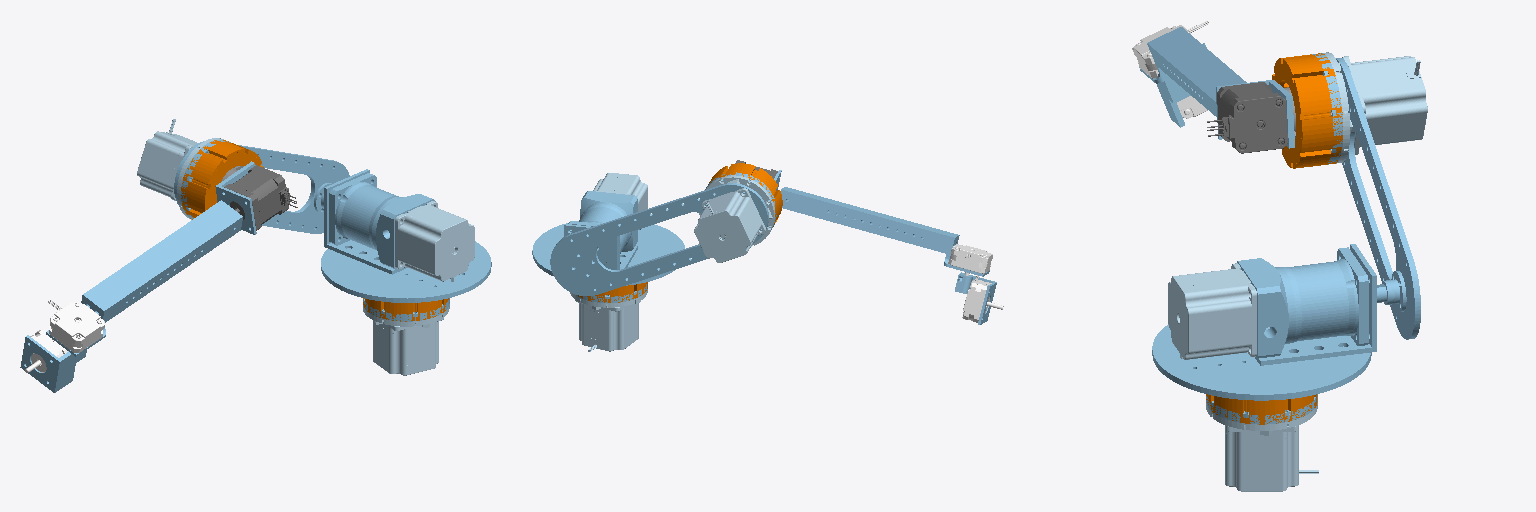
--- What the picture shows (computed from the rendered views, not written in the file) ---
The picture shows the robot from 3 angles, left to right: view 1: azimuth 30°, elevation 25°; view 2: azimuth 150°, elevation 25°; view 3: azimuth 270°, elevation 25°; orthographic projection.
Robot: Midas — 6 links, 5 joints (5 revolute); root link base; default pose: every joint at zero.
Links seen in each view (by area): view 1: platform, j2, j4, base, j3, j5; view 2: j2, platform, j4, base, j5; view 3: platform, j2, base, j3, j4, j5.
Boxes of the visible links, x1=… form: platform: x1=314, y1=169, x2=491, y2=302; j2: x1=137, y1=119, x2=349, y2=233; j4: x1=46, y1=200, x2=242, y2=356; base: x1=363, y1=298, x2=449, y2=375; j3: x1=215, y1=161, x2=297, y2=234; j5: x1=20, y1=330, x2=86, y2=392; j2: x1=550, y1=163, x2=782, y2=295; platform: x1=532, y1=173, x2=684, y2=285; j4: x1=781, y1=187, x2=992, y2=276; base: x1=570, y1=282, x2=647, y2=351; j5: x1=955, y1=272, x2=1003, y2=324; platform: x1=1152, y1=244, x2=1406, y2=400; j2: x1=1272, y1=52, x2=1427, y2=339; base: x1=1206, y1=394, x2=1318, y2=491; j3: x1=1207, y1=80, x2=1294, y2=153; j4: x1=1132, y1=21, x2=1246, y2=116; j5: x1=1157, y1=43, x2=1207, y2=127.
Size in the robot's own frame: 0.5568 by 0.2293 by 0.2668 metres.
Meshes: 18 distinct files referenced, 31 mesh visuals loaded (18 binary STL).

robot.urdf — Midas:
<?xml version="1.0"?>
<robot name="Midas">
<link name="base">
<visual>
<origin xyz="-1.1449174941446926823e-16 0 0" rpy="-1.570796326794896558 -1.1102230246247470723e-16 -1.570796326794896558" />
<geometry>
<mesh filename="package://Midas_robot_description/Midas-Robot/23hs22-2804s.stl"/>
</geometry>
<material name="23hs22-2804s_material">
<color rgba="0.76862745098039220171 0.88627450980392152857 0.95294117647058818044 1.0"/>
</material>
</visual>
<collision>
<origin xyz="-1.1449174941446926823e-16 0 0" rpy="-1.570796326794896558 -1.1102230246247470723e-16 -1.570796326794896558" />
<geometry>
<mesh filename="package://Midas_robot_description/Midas-Robot/23hs22-2804s.stl"/>
</geometry>
</collision>
<visual>
<origin xyz="2.2742891967527403354e-15 1.2198545598937239283e-15 0.072250000000016356694" rpy="1.570796326794896558 3.0507815995745220066e-16 2.0594885173533126199" />
<geometry>
<mesh filename="package://Midas_robot_description/Midas-Robot/ring.stl"/>
</geometry>
<material name="ring_material">
<color rgba="0.61568627450980395466 0.81176470588235294379 0.92941176470588238168 1.0"/>
</material>
</visual>
<collision>
<origin xyz="2.2742891967527403354e-15 1.2198545598937239283e-15 0.072250000000016356694" rpy="1.570796326794896558 3.0507815995745220066e-16 2.0594885173533126199" />
<geometry>
<mesh filename="package://Midas_robot_description/Midas-Robot/ring.stl"/>
</geometry>
</collision>
<visual>
<origin xyz="-0.008073568289266357112 0.043596852108962372285 0.072250000000016398327" rpy="1.5707963267948978903 1.6641573416551487972e-15 -1.7808240093215093047" />
<geometry>
<mesh filename="package://Midas_robot_description/Midas-Robot/planet.stl"/>
</geometry>
<material name="planet_material">
<color rgba="0.61568627450980395466 0.81176470588235294379 0.92941176470588238168 1.0"/>
</material>
</visual>
<collision>
<origin xyz="-0.008073568289266357112 0.043596852108962372285 0.072250000000016398327" rpy="1.5707963267948978903 1.6641573416551487972e-15 -1.7808240093215093047" />
<geometry>
<mesh filename="package://Midas_robot_description/Midas-Robot/planet.stl"/>
</geometry>
</collision>
<visual>
<origin xyz="1.5647205753310799992e-15 5.5511151231257827021e-16 0.072250000000016356694" rpy="1.57079632679489678 6.7998872472763281959e-16 2.0594885173533090672" />
<geometry>
<mesh filename="package://Midas_robot_description/Midas-Robot/top_cover.stl"/>
</geometry>
<material name="top_cover_material">
<color rgba="0.97254901960784312376 0.52941176470588235947 0.0039215686274509803377 1.0"/>
</material>
</visual>
<collision>
<origin xyz="1.5647205753310799992e-15 5.5511151231257827021e-16 0.072250000000016356694" rpy="1.57079632679489678 6.7998872472763281959e-16 2.0594885173533090672" />
<geometry>
<mesh filename="package://Midas_robot_description/Midas-Robot/top_cover.stl"/>
</geometry>
</collision>
<visual>
<origin xyz="-0.02871550992756377596 -0.0053177378445094375392 0.064250000000016349588" rpy="-1.5707963267948945596 2.5084471746947033178e-16 -0.73362645812491122932" />
<geometry>
<mesh filename="package://Midas_robot_description/Midas-Robot/planet.stl"/>
</geometry>
<material name="planet_material">
<color rgba="0.61568627450980395466 0.81176470588235294379 0.92941176470588238168 1.0"/>
</material>
</visual>
<collision>
<origin xyz="-0.02871550992756377596 -0.0053177378445094375392 0.064250000000016349588" rpy="-1.5707963267948945596 2.5084471746947033178e-16 -0.73362645812491122932" />
<geometry>
<mesh filename="package://Midas_robot_description/Midas-Robot/planet.stl"/>
</geometry>
</collision>
<visual>
<origin xyz="-8.3266726846886740532e-17 0 0.072250000000016439961" rpy="1.5707963267948958919 -1.5859141323471743844e-15 -1.8675022996339341042" />
<geometry>
<mesh filename="package://Midas_robot_description/Midas-Robot/bottom_cover.stl"/>
</geometry>
<material name="bottom_cover_material">
<color rgba="0.76862745098039220171 0.88627450980392152857 0.95294117647058818044 1.0"/>
</material>
</visual>
<collision>
<origin xyz="-8.3266726846886740532e-17 0 0.072250000000016439961" rpy="1.5707963267948958919 -1.5859141323471743844e-15 -1.8675022996339341042" />
<geometry>
<mesh filename="package://Midas_robot_description/Midas-Robot/bottom_cover.stl"/>
</geometry>
</collision>
<visual>
<origin xyz="0.018963051027797363235 -0.022209492157640255833 0.072250000000016370572" rpy="1.570796326794896558 -5.4300922672773174923e-17 1.3607686442682840333" />
<geometry>
<mesh filename="package://Midas_robot_description/Midas-Robot/planet.stl"/>
</geometry>
<material name="planet_material">
<color rgba="0.61568627450980395466 0.81176470588235294379 0.92941176470588238168 1.0"/>
</material>
</visual>
<collision>
<origin xyz="0.018963051027797363235 -0.022209492157640255833 0.072250000000016370572" rpy="1.570796326794896558 -5.4300922672773174923e-17 1.3607686442682840333" />
<geometry>
<mesh filename="package://Midas_robot_description/Midas-Robot/planet.stl"/>
</geometry>
</collision>
<visual>
<origin xyz="2.2840166597300263533e-15 1.2152114320151168013e-15 0.072250000000016356694" rpy="1.570796326794896558 5.1595185780174672198e-17 0.052653963703470973989" />
<geometry>
<mesh filename="package://Midas_robot_description/Midas-Robot/carrier.stl"/>
</geometry>
<material name="carrier_material">
<color rgba="0.64705882352941179736 0.64705882352941179736 0.64705882352941179736 1.0"/>
</material>
</visual>
<collision>
<origin xyz="2.2840166597300263533e-15 1.2152114320151168013e-15 0.072250000000016356694" rpy="1.570796326794896558 5.1595185780174672198e-17 0.052653963703470973989" />
<geometry>
<mesh filename="package://Midas_robot_description/Midas-Robot/carrier.stl"/>
</geometry>
</collision>
<visual>
<origin xyz="2.2833465743107972165e-15 1.213440460589933622e-15 0.064250000000016377344" rpy="-1.5707963267948934494 1.0704695233233910285e-15 -1.2554607168613407531" />
<geometry>
<mesh filename="package://Midas_robot_description/Midas-Robot/sun.stl"/>
</geometry>
<material name="sun_material">
<color rgba="0.61568627450980395466 0.81176470588235294379 0.92941176470588238168 1.0"/>
</material>
</visual>
<collision>
<origin xyz="2.2833465743107972165e-15 1.213440460589933622e-15 0.064250000000016377344" rpy="-1.5707963267948934494 1.0704695233233910285e-15 -1.2554607168613407531" />
<geometry>
<mesh filename="package://Midas_robot_description/Midas-Robot/sun.stl"/>
</geometry>
</collision>
<inertial>
<origin xyz="0 0 0" rpy="0 0 0"/>
<mass value="0" />
<inertia ixx="0" ixy="0"  ixz="0" iyy="0" iyz="0" izz="0" />
</inertial>
</link>

<link name="platform">
<visual>
<origin xyz="0 -1.2246467991472765398e-18 -0.009999999999999995004" rpy="1.232595164407830946e-32 -2.4651903288156624393e-32 -5.2207661416554567161e-17" />
<geometry>
<mesh filename="package://Midas_robot_description/Midas-Robot/platform.stl"/>
</geometry>
<material name="platform_material">
<color rgba="0.61568627450980395466 0.81176470588235294379 0.92941176470588238168 1.0"/>
</material>
</visual>
<collision>
<origin xyz="0 -1.2246467991472765398e-18 -0.009999999999999995004" rpy="1.232595164407830946e-32 -2.4651903288156624393e-32 -5.2207661416554567161e-17" />
<geometry>
<mesh filename="package://Midas_robot_description/Midas-Robot/platform.stl"/>
</geometry>
</collision>
<visual>
<origin xyz="1.6741520700367351027e-17 0.067499999999999477085 -0.04457000000000010953" rpy="5.5524931820137805455e-17 1.5707963267948947816 0" />
<geometry>
<mesh filename="package://Midas_robot_description/Midas-Robot/23hs22-2804s.stl"/>
</geometry>
<material name="23hs22-2804s_material">
<color rgba="0.76862745098039220171 0.88627450980392152857 0.95294117647058818044 1.0"/>
</material>
</visual>
<collision>
<origin xyz="1.6741520700367351027e-17 0.067499999999999477085 -0.04457000000000010953" rpy="5.5524931820137805455e-17 1.5707963267948947816 0" />
<geometry>
<mesh filename="package://Midas_robot_description/Midas-Robot/23hs22-2804s.stl"/>
</geometry>
</collision>
<visual>
<origin xyz="-1.0444733542316001519e-16 -0.11199999999999998845 -0.044569999999999915241" rpy="3.1415926535897917837 -0.63879920846746851559 -4.0153510517335879718e-15" />
<geometry>
<mesh filename="package://Midas_robot_description/Midas-Robot/flange2.stl"/>
</geometry>
<material name="flange2_material">
<color rgba="0.61568627450980395466 0.81176470588235294379 0.92941176470588238168 1.0"/>
</material>
</visual>
<collision>
<origin xyz="-1.0444733542316001519e-16 -0.11199999999999998845 -0.044569999999999915241" rpy="3.1415926535897917837 -0.63879920846746851559 -4.0153510517335879718e-15" />
<geometry>
<mesh filename="package://Midas_robot_description/Midas-Robot/flange2.stl"/>
</geometry>
</collision>
<visual>
<origin xyz="-1.0142822431806847807e-16 -0.080000000000000029421 -0.044569999999999915241" rpy="-3.1415926535897917837 1.3189715413038964381e-16 3.141592653589793116" />
<geometry>
<mesh filename="package://Midas_robot_description/Midas-Robot/23-motor_mount.stl"/>
</geometry>
<material name="23-motor_mount_material">
<color rgba="0.61568627450980395466 0.81176470588235294379 0.92941176470588238168 1.0"/>
</material>
</visual>
<collision>
<origin xyz="-1.0142822431806847807e-16 -0.080000000000000029421 -0.044569999999999915241" rpy="-3.1415926535897917837 1.3189715413038964381e-16 3.141592653589793116" />
<geometry>
<mesh filename="package://Midas_robot_description/Midas-Robot/23-motor_mount.stl"/>
</geometry>
</collision>
<visual>
<origin xyz="-0.014796005033029264314 -0.027250000000000204614 -0.030605231204780952714" rpy="-3.1415926535897917837 1.3189715413038974241e-16 3.141592653589793116" />
<geometry>
<mesh filename="package://Midas_robot_description/Midas-Robot/composite_part_1.stl"/>
</geometry>
<material name="composite_part_1_material">
<color rgba="0.61568627450980395466 0.81176470588235294379 0.92941176470588238168 1.0"/>
</material>
</visual>
<collision>
<origin xyz="-0.014796005033029264314 -0.027250000000000204614 -0.030605231204780952714" rpy="-3.1415926535897917837 1.3189715413038974241e-16 3.141592653589793116" />
<geometry>
<mesh filename="package://Midas_robot_description/Midas-Robot/composite_part_1.stl"/>
</geometry>
</collision>
<inertial>
<origin xyz="0 0 0" rpy="0 0 0"/>
<mass value="0" />
<inertia ixx="0" ixy="0"  ixz="0" iyy="0" iyz="0" izz="0" />
</inertial>
</link>

<link name="j2">
<visual>
<origin xyz="-0.1905999999999999639 -2.7755575615628913511e-17 -0.062000000000000971001" rpy="-1.5707963267948958919 -5.97157993313111585e-15 -1.57079632679489678" />
<geometry>
<mesh filename="package://Midas_robot_description/Midas-Robot/23hs22-2804s.stl"/>
</geometry>
<material name="23hs22-2804s_material">
<color rgba="0.76862745098039220171 0.88627450980392152857 0.95294117647058818044 1.0"/>
</material>
</visual>
<collision>
<origin xyz="-0.1905999999999999639 -2.7755575615628913511e-17 -0.062000000000000971001" rpy="-1.5707963267948958919 -5.97157993313111585e-15 -1.57079632679489678" />
<geometry>
<mesh filename="package://Midas_robot_description/Midas-Robot/23hs22-2804s.stl"/>
</geometry>
</collision>
<visual>
<origin xyz="1.3877787807814456755e-17 -2.7755575615628913511e-17 0" rpy="1.570796326794896558 1.6855739234721192622e-17 -1.9780814093964471495e-17" />
<geometry>
<mesh filename="package://Midas_robot_description/Midas-Robot/upperarm.stl"/>
</geometry>
<material name="upperarm_material">
<color rgba="0.61568627450980395466 0.81176470588235294379 0.92941176470588238168 1.0"/>
</material>
</visual>
<collision>
<origin xyz="1.3877787807814456755e-17 -2.7755575615628913511e-17 0" rpy="1.570796326794896558 1.6855739234721192622e-17 -1.9780814093964471495e-17" />
<geometry>
<mesh filename="package://Midas_robot_description/Midas-Robot/upperarm.stl"/>
</geometry>
</collision>
<visual>
<origin xyz="-0.1905999999999999639 0 0.017250000000016613155" rpy="1.5707963267948970021 -2.2055164235487927261e-17 -2.3561944901923426166" />
<geometry>
<mesh filename="package://Midas_robot_description/Midas-Robot/ring.stl"/>
</geometry>
<material name="ring_material">
<color rgba="0.61568627450980395466 0.81176470588235294379 0.92941176470588238168 1.0"/>
</material>
</visual>
<collision>
<origin xyz="-0.1905999999999999639 0 0.017250000000016613155" rpy="1.5707963267948970021 -2.2055164235487927261e-17 -2.3561944901923426166" />
<geometry>
<mesh filename="package://Midas_robot_description/Midas-Robot/ring.stl"/>
</geometry>
</collision>
<visual>
<origin xyz="-0.16501369729581036316 -0.0025985868884551011071 0.017250000000016876833" rpy="1.5707963267948930053 5.4431113338167314858e-15 -2.2374540801420059744" />
<geometry>
<mesh filename="package://Midas_robot_description/Midas-Robot/planet.stl"/>
</geometry>
<material name="planet_material">
<color rgba="0.61568627450980395466 0.81176470588235294379 0.92941176470588238168 1.0"/>
</material>
</visual>
<collision>
<origin xyz="-0.16501369729581036316 -0.0025985868884551011071 0.017250000000016876833" rpy="1.5707963267948930053 5.4431113338167314858e-15 -2.2374540801420059744" />
<geometry>
<mesh filename="package://Midas_robot_description/Midas-Robot/planet.stl"/>
</geometry>
</collision>
<visual>
<origin xyz="-0.19059999999999990838 8.3266726846886740532e-17 0.017250000000016599278" rpy="1.57079632679489678 -2.8871676823717530665e-16 -2.3561944901923412843" />
<geometry>
<mesh filename="package://Midas_robot_description/Midas-Robot/top_cover.stl"/>
</geometry>
<material name="top_cover_material">
<color rgba="0.97254901960784312376 0.52941176470588235947 0.0039215686274509803377 1.0"/>
</material>
</visual>
<collision>
<origin xyz="-0.19059999999999990838 8.3266726846886740532e-17 0.017250000000016599278" rpy="1.57079632679489678 -2.8871676823717530665e-16 -2.3561944901923412843" />
<geometry>
<mesh filename="package://Midas_robot_description/Midas-Robot/top_cover.stl"/>
</geometry>
</collision>
<visual>
<origin xyz="-0.18630200193640966688 0.042319108114335757254 0.009250000000016661561" rpy="-1.570796326794896558 2.7728445275168562639e-15 -1.1902565289454078989" />
<geometry>
<mesh filename="package://Midas_robot_description/Midas-Robot/planet.stl"/>
</geometry>
<material name="planet_material">
<color rgba="0.61568627450980395466 0.81176470588235294379 0.92941176470588238168 1.0"/>
</material>
</visual>
<collision>
<origin xyz="-0.18630200193640966688 0.042319108114335757254 0.009250000000016661561" rpy="-1.570796326794896558 2.7728445275168562639e-15 -1.1902565289454078989" />
<geometry>
<mesh filename="package://Midas_robot_description/Midas-Robot/planet.stl"/>
</geometry>
</collision>
<visual>
<origin xyz="-0.1905999999999999639 -5.5511151231257827021e-17 0.017250000000016599278" rpy="1.570796326794896558 -3.6476581565618535824e-17 1.089472336390025872e-15" />
<geometry>
<mesh filename="package://Midas_robot_description/Midas-Robot/bottom_cover.stl"/>
</geometry>
<material name="bottom_cover_material">
<color rgba="0.76862745098039220171 0.88627450980392152857 0.95294117647058818044 1.0"/>
</material>
</visual>
<collision>
<origin xyz="-0.1905999999999999639 -5.5511151231257827021e-17 0.017250000000016599278" rpy="1.570796326794896558 -3.6476581565618535824e-17 1.089472336390025872e-15" />
<geometry>
<mesh filename="package://Midas_robot_description/Midas-Robot/bottom_cover.stl"/>
</geometry>
</collision>
<visual>
<origin xyz="-0.22939842172431021416 -0.017437378548682436197 0.017250000000016793567" rpy="1.5707963267948903408 2.3086442656521055573e-15 0.90413857344778725267" />
<geometry>
<mesh filename="package://Midas_robot_description/Midas-Robot/planet.stl"/>
</geometry>
<material name="planet_material">
<color rgba="0.61568627450980395466 0.81176470588235294379 0.92941176470588238168 1.0"/>
</material>
</visual>
<collision>
<origin xyz="-0.22939842172431021416 -0.017437378548682436197 0.017250000000016793567" rpy="1.5707963267948903408 2.3086442656521055573e-15 0.90413857344778725267" />
<geometry>
<mesh filename="package://Midas_robot_description/Midas-Robot/planet.stl"/>
</geometry>
</collision>
<visual>
<origin xyz="-0.1905999999999999639 5.5511151231257827021e-17 0.0172500000000167103" rpy="1.5707963267948994446 -5.7439847103031762517e-16 3.0822224485646239067" />
<geometry>
<mesh filename="package://Midas_robot_description/Midas-Robot/carrier.stl"/>
</geometry>
<material name="carrier_material">
<color rgba="0.64705882352941179736 0.64705882352941179736 0.64705882352941179736 1.0"/>
</material>
</visual>
<collision>
<origin xyz="-0.1905999999999999639 5.5511151231257827021e-17 0.0172500000000167103" rpy="1.5707963267948994446 -5.7439847103031762517e-16 3.0822224485646239067" />
<geometry>
<mesh filename="package://Midas_robot_description/Midas-Robot/carrier.stl"/>
</geometry>
</collision>
<visual>
<origin xyz="-0.1905999999999999639 8.3266726846886740532e-17 0.0092500000000166060499" rpy="-1.5707963267949098807 8.1528043177160854498e-15 -1.0228789834981364404" />
<geometry>
<mesh filename="package://Midas_robot_description/Midas-Robot/sun.stl"/>
</geometry>
<material name="sun_material">
<color rgba="0.61568627450980395466 0.81176470588235294379 0.92941176470588238168 1.0"/>
</material>
</visual>
<collision>
<origin xyz="-0.1905999999999999639 8.3266726846886740532e-17 0.0092500000000166060499" rpy="-1.5707963267949098807 8.1528043177160854498e-15 -1.0228789834981364404" />
<geometry>
<mesh filename="package://Midas_robot_description/Midas-Robot/sun.stl"/>
</geometry>
</collision>
<inertial>
<origin xyz="0 0 0" rpy="0 0 0"/>
<mass value="0" />
<inertia ixx="0" ixy="0"  ixz="0" iyy="0" iyz="0" izz="0" />
</inertial>
</link>

<link name="j3">
<visual>
<origin xyz="5.5511151231257827021e-17 0.023715020080509241485 -0.025999999999999988398" rpy="3.141592653589793116 8.6153268106496119743e-18 4.2417739251903507471e-20" />
<geometry>
<mesh filename="package://Midas_robot_description/Midas-Robot/17-motor-mount.stl"/>
</geometry>
<material name="17-motor-mount_material">
<color rgba="0.61568627450980395466 0.81176470588235294379 0.92941176470588238168 1.0"/>
</material>
</visual>
<collision>
<origin xyz="5.5511151231257827021e-17 0.023715020080509241485 -0.025999999999999988398" rpy="3.141592653589793116 8.6153268106496119743e-18 4.2417739251903507471e-20" />
<geometry>
<mesh filename="package://Midas_robot_description/Midas-Robot/17-motor-mount.stl"/>
</geometry>
</collision>
<visual>
<origin xyz="-3.8857805861880478915e-16 0.023715020080509491285 -0.025999999999999710842" rpy="1.570796326794896558 -9.7548862664510566995e-17 -6.2920825862053634946e-15" />
<geometry>
<mesh filename="package://Midas_robot_description/Midas-Robot/17he19-2004s.stl"/>
</geometry>
<material name="17he19-2004s_material">
<color rgba="0.49803921568627451677 0.49803921568627451677 0.49803921568627451677 1.0"/>
</material>
</visual>
<collision>
<origin xyz="-3.8857805861880478915e-16 0.023715020080509491285 -0.025999999999999710842" rpy="1.570796326794896558 -9.7548862664510566995e-17 -6.2920825862053634946e-15" />
<geometry>
<mesh filename="package://Midas_robot_description/Midas-Robot/17he19-2004s.stl"/>
</geometry>
</collision>
<inertial>
<origin xyz="0 0 0" rpy="0 0 0"/>
<mass value="0" />
<inertia ixx="0" ixy="0"  ixz="0" iyy="0" iyz="0" izz="0" />
</inertial>
</link>

<link name="j4">
<visual>
<origin xyz="0.02000000000000035083 2.7755575615628913511e-17 0.22388000000000071732" rpy="-5.8043504494854028652e-17 2.144421283561755415e-16 1.5707963267948861219" />
<geometry>
<mesh filename="package://Midas_robot_description/Midas-Robot/horizontal_mount-17.stl"/>
</geometry>
<material name="horizontal_mount-17_material">
<color rgba="0.61568627450980395466 0.81176470588235294379 0.92941176470588238168 1.0"/>
</material>
</visual>
<collision>
<origin xyz="0.02000000000000035083 2.7755575615628913511e-17 0.22388000000000071732" rpy="-5.8043504494854028652e-17 2.144421283561755415e-16 1.5707963267948861219" />
<geometry>
<mesh filename="package://Midas_robot_description/Midas-Robot/horizontal_mount-17.stl"/>
</geometry>
</collision>
<visual>
<origin xyz="2.498001805406602216e-16 1.249000902703301108e-16 0.22388000000000127243" rpy="-3.4649867183022031308e-16 1.5707963267948952257 0" />
<geometry>
<mesh filename="package://Midas_robot_description/Midas-Robot/17hs08-1004s.stl"/>
</geometry>
<material name="17hs08-1004s_material">
<color rgba="1 1 1 1.0"/>
</material>
</visual>
<collision>
<origin xyz="2.498001805406602216e-16 1.249000902703301108e-16 0.22388000000000127243" rpy="-3.4649867183022031308e-16 1.5707963267948952257 0" />
<geometry>
<mesh filename="package://Midas_robot_description/Midas-Robot/17hs08-1004s.stl"/>
</geometry>
</collision>
<visual>
<origin xyz="0.010000000000000036637 0.014999999999999999445 0.015000000000000013323" rpy="1.570796326794896558 1.570796326794896558 0" />
<geometry>
<mesh filename="package://Midas_robot_description/Midas-Robot/rotator.stl"/>
</geometry>
<material name="rotator_material">
<color rgba="0.61568627450980395466 0.81176470588235294379 0.92941176470588238168 1.0"/>
</material>
</visual>
<collision>
<origin xyz="0.010000000000000036637 0.014999999999999999445 0.015000000000000013323" rpy="1.570796326794896558 1.570796326794896558 0" />
<geometry>
<mesh filename="package://Midas_robot_description/Midas-Robot/rotator.stl"/>
</geometry>
</collision>
<inertial>
<origin xyz="0 0 0" rpy="0 0 0"/>
<mass value="0" />
<inertia ixx="0" ixy="0"  ixz="0" iyy="0" iyz="0" izz="0" />
</inertial>
</link>

<link name="j5">
<visual>
<origin xyz="0.033600000000000018741 0.011427329309938019652 0" rpy="1.570796326794896558 1.570796326794896558 0" />
<geometry>
<mesh filename="package://Midas_robot_description/Midas-Robot/j6_mount.stl"/>
</geometry>
<material name="j6_mount_material">
<color rgba="0.61568627450980395466 0.81176470588235294379 0.92941176470588238168 1.0"/>
</material>
</visual>
<collision>
<origin xyz="0.033600000000000018741 0.011427329309938019652 0" rpy="1.570796326794896558 1.570796326794896558 0" />
<geometry>
<mesh filename="package://Midas_robot_description/Midas-Robot/j6_mount.stl"/>
</geometry>
</collision>
<visual>
<origin xyz="0.010599999999999110134 -0.014572670690060782195 -0.022500438715886000862" rpy="-1.570796326794896558 -4.509380806628536291e-18 -1.57079632679489678" />
<geometry>
<mesh filename="package://Midas_robot_description/Midas-Robot/17hs08-1004s.stl"/>
</geometry>
<material name="17hs08-1004s_material">
<color rgba="1 1 1 1.0"/>
</material>
</visual>
<collision>
<origin xyz="0.010599999999999110134 -0.014572670690060782195 -0.022500438715886000862" rpy="-1.570796326794896558 -4.509380806628536291e-18 -1.57079632679489678" />
<geometry>
<mesh filename="package://Midas_robot_description/Midas-Robot/17hs08-1004s.stl"/>
</geometry>
</collision>
<inertial>
<origin xyz="0.017372053641063710944 8.5732905752094676344e-05 -0.018725012423817403995" rpy="0 0 0"/>
<mass value="0.017895069333323972149" />
<inertia ixx="5.953631781404882633e-06" ixy="1.3056892341228224919e-06"  ixz="1.2202024250093836324e-06" iyy="6.6314658605512585574e-06" iyz="-2.1787577437823206637e-07" izz="6.507080094899798787e-06" />
</inertial>
</link>

<joint name="J5" type="revolute">
<origin xyz="0.029250000000005799139 1.249000902703301108e-16 0.22388000000000121692" rpy="1.0502418836819603168e-16 -1.5707963267948885644 0" />
<parent link="j4" />
<child link="j5" />
<axis xyz="0 0 1"/>
<limit effort="12" lower="-2.9671" upper="2.9671" velocity="2.8710" />
<joint_properties friction="0.0"/>
</joint>

<joint name="J4" type="revolute">
<origin xyz="-3.8857805861880478915e-16 0.034965020080509695566 -0.025999999999999794109" rpy="-1.570796326794896558 -0.33289558580758754625 1.7660707286997906429e-17" />
<parent link="j3" />
<child link="j4" />
<axis xyz="0 0 1"/>
<limit effort="12" lower="-2.9671" upper="2.9671" velocity="2.8710" />
<joint_properties friction="0.0"/>
</joint>

<joint name="J3" type="revolute">
<origin xyz="-0.19059999999999990838 5.5511151231257827021e-17 0.044250000000016970203" rpy="3.1415926535897926719 -1.7906706643505784883e-16 -0.955726394497759979" />
<parent link="j2" />
<child link="j3" />
<axis xyz="0 0 1"/>
<limit effort="12" lower="-2.9671" upper="2.9671" velocity="2.8710" />
<joint_properties friction="0.0"/>
</joint>

<joint name="J2" type="revolute">
<origin xyz="-1.0587627264628472677e-16 -0.11249999999999996114 -0.044569999999999915241" rpy="-1.5707963267948981123 -0.43160203730805885014 1.1852745712718701778e-15" />
<parent link="platform" />
<child link="j2" />
<axis xyz="0 0 1"/>
<limit effort="12" lower="-2.9671" upper="2.9671" velocity="2.8710" />
<joint_properties friction="0.0"/>
</joint>

<joint name="J1" type="revolute">
<origin xyz="2.2802857265297040473e-15 1.2236906322620464735e-15 0.099250000000016380675" rpy="3.141592653589793116 2.0372578431463831491e-16 0.28110427297966683602" />
<parent link="base" />
<child link="platform" />
<axis xyz="0 0 1"/>
<limit effort="12" lower="-2.9671" upper="2.9671" velocity="2.8710" />
<joint_properties friction="0.0"/>
</joint>


</robot>
